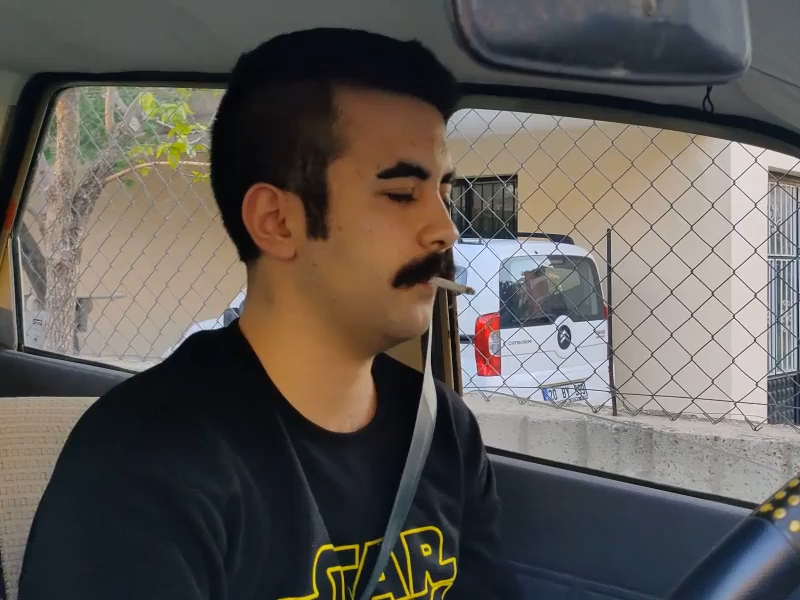sigara: (421, 269, 479, 298)
